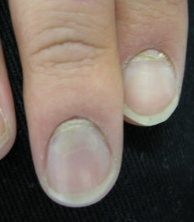SJS-TEN: (36, 95, 123, 214), (117, 31, 194, 136)
